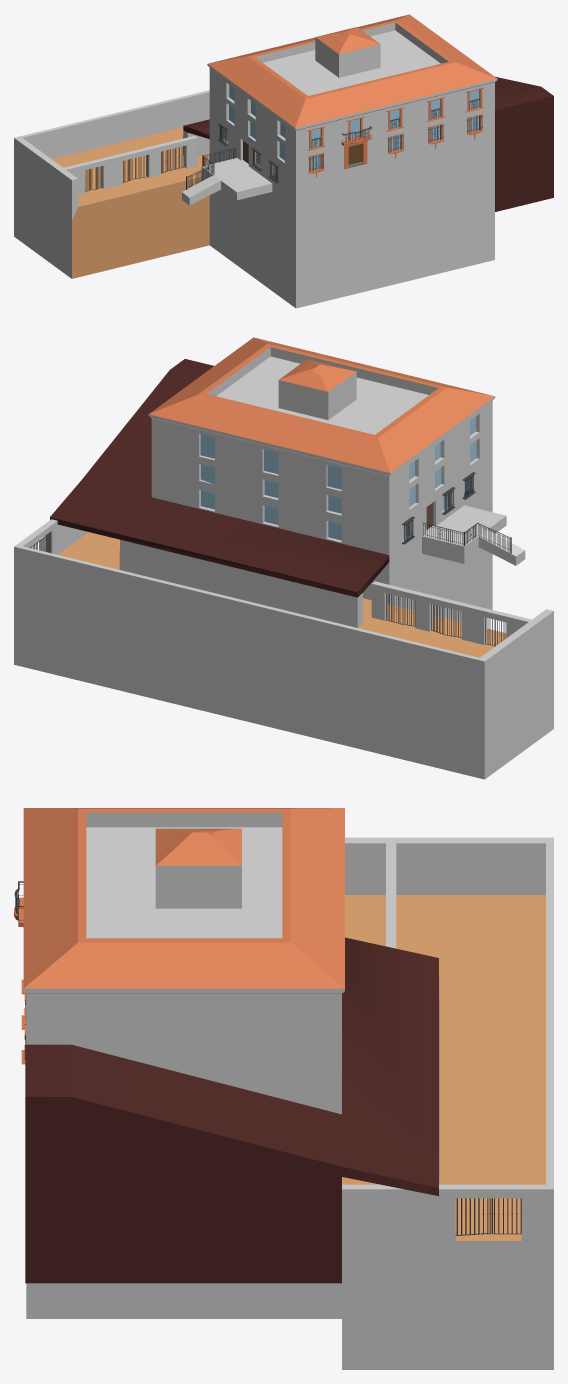
File: 26_Hostal_Reformado_V2_Rafael_Vilar.fbx
3 renders of one model, top to bottom at view 1: azimuth 30°, elevation 25°; view 2: azimuth 150°, elevation 25°; view 3: azimuth 270°, elevation 25°, orthographic. The views are drawn at different scales.
Parts seen in each view (by area): view 1: port.001, port.002; view 2: port.001, port.002; view 3: port.001, port.002.
Boxes of the visible parts, bbox=[...] form: port.001: bbox=[14, 14, 497, 308]; port.002: bbox=[183, 76, 553, 211]; port.001: bbox=[14, 337, 553, 779]; port.002: bbox=[50, 359, 389, 627]; port.001: bbox=[14, 808, 553, 1369]; port.002: bbox=[25, 937, 439, 1283].
Size of the model in its own units: 5152 by 2705 by 3331.
